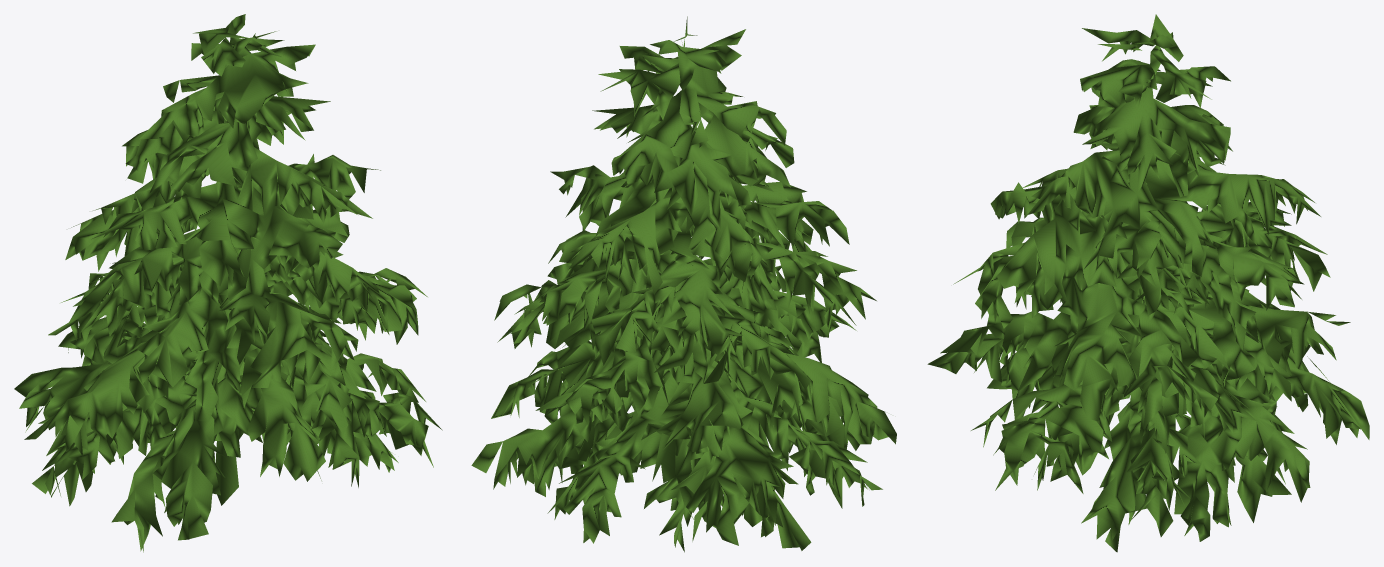
The model's file is hlg-picea.glb.
3 renders of one model, left to right at view 1: azimuth 30°, elevation 25°; view 2: azimuth 150°, elevation 25°; view 3: azimuth 270°, elevation 25°, orthographic. The views are drawn at different scales.
Visible parts, largest first — view 1: geometry_0; view 2: geometry_0; view 3: geometry_0.
Boxes of the visible parts, box(x1,y1,x2,y2) form: geometry_0: box(14, 14, 442, 552); geometry_0: box(471, 16, 896, 552); geometry_0: box(927, 14, 1369, 552).
Bounding box in the file's own units: 220706 × 249608 × 216028.
1 material, 1 textured.
